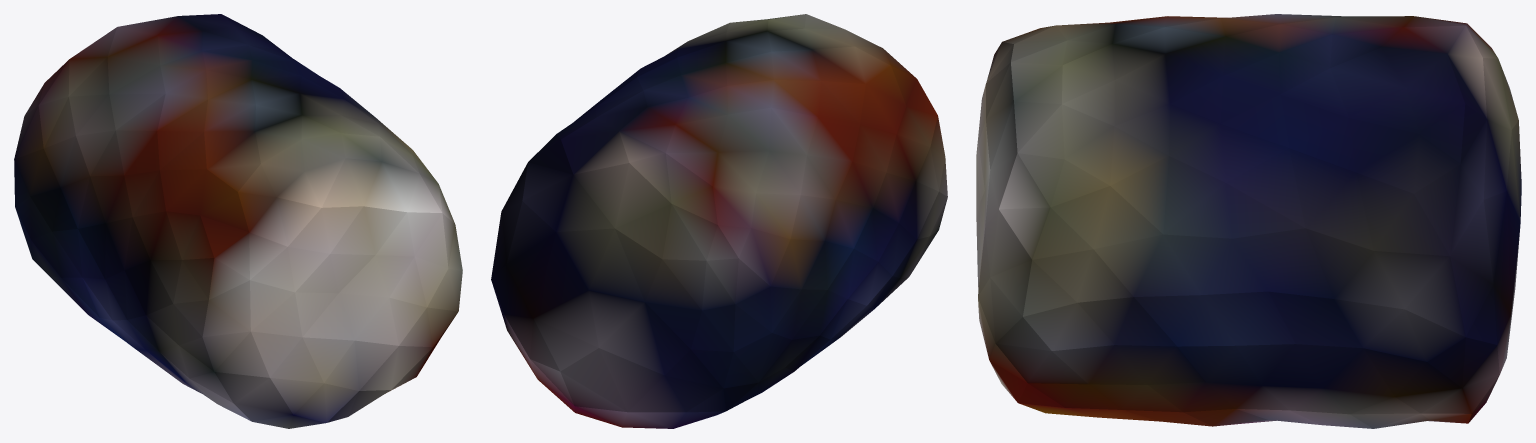
The model's file is maisels-barrel2.dae.
3 renders of one model, left to right at view 1: azimuth 30°, elevation 25°; view 2: azimuth 150°, elevation 25°; view 3: azimuth 270°, elevation 25°, orthographic. The views are drawn at different scales.
Visible parts, largest first — view 1: node; view 2: node; view 3: node.
Part boxes in pixels (x1=…): node: x1=14, y1=14, x2=462, y2=428; node: x1=491, y1=14, x2=947, y2=428; node: x1=976, y1=14, x2=1521, y2=428.
Size of the model in its own units: 0.1805 by 0.1758 by 0.2349.
